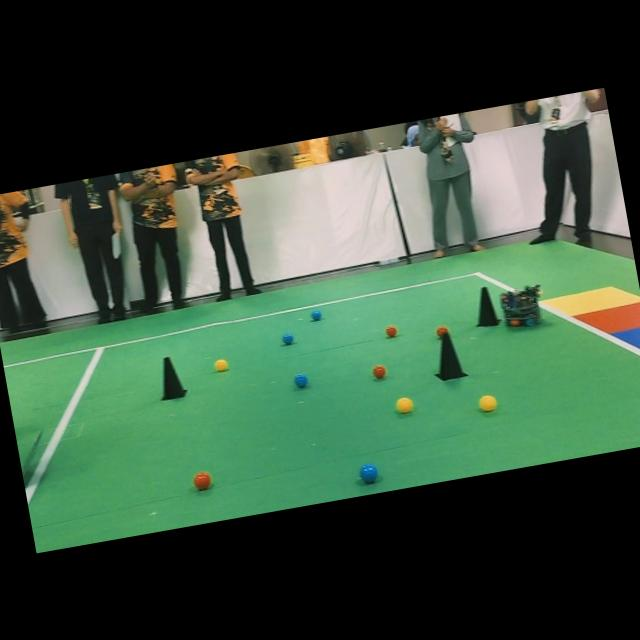ball: (359, 463, 377, 483), (193, 471, 211, 490), (395, 396, 413, 413), (479, 394, 497, 411), (293, 373, 309, 387), (372, 365, 386, 378), (214, 359, 228, 372), (281, 332, 294, 345), (435, 325, 449, 337), (385, 325, 398, 337), (310, 309, 322, 321)
goal: (540, 286, 640, 315), (574, 302, 640, 333), (612, 327, 640, 348)
